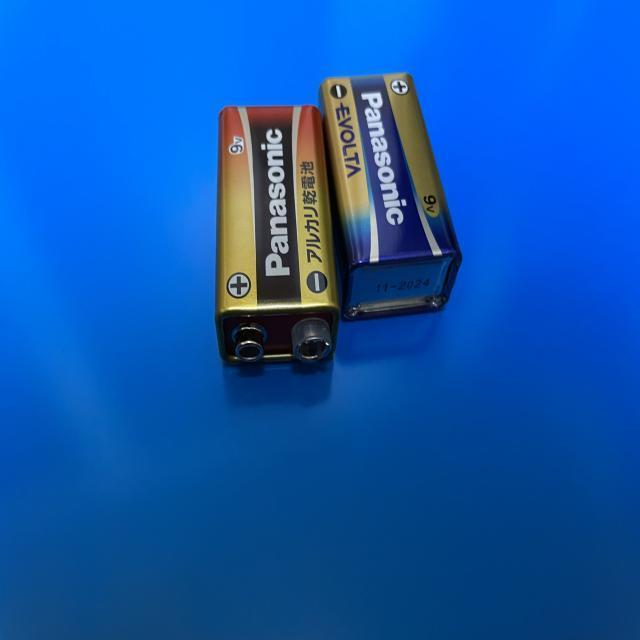9V: (316, 71, 462, 319), (212, 105, 339, 370)
